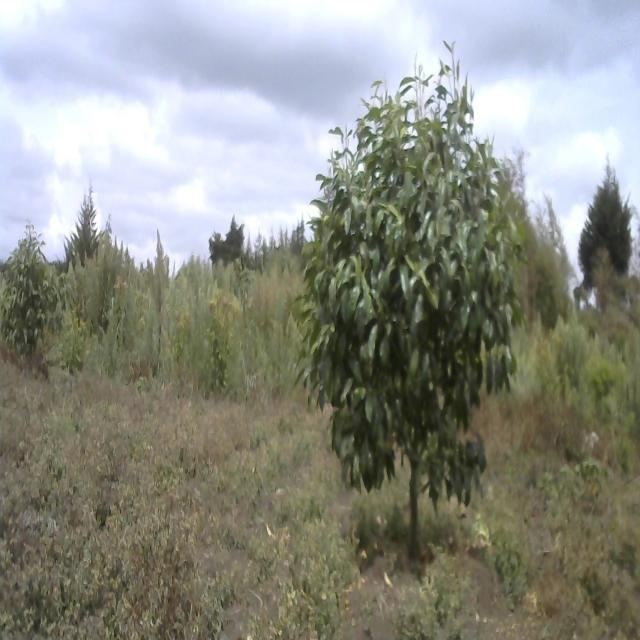Juniperus procesera: (580, 164, 634, 302), (69, 183, 101, 279)
Prunus Africana: (305, 38, 523, 556), (9, 208, 51, 370)
